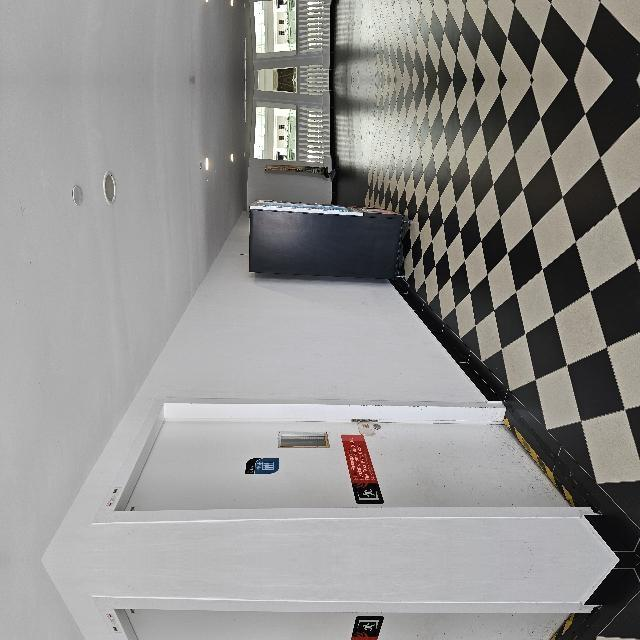obstacle: (278, 320, 368, 500), (278, 620, 368, 640)
